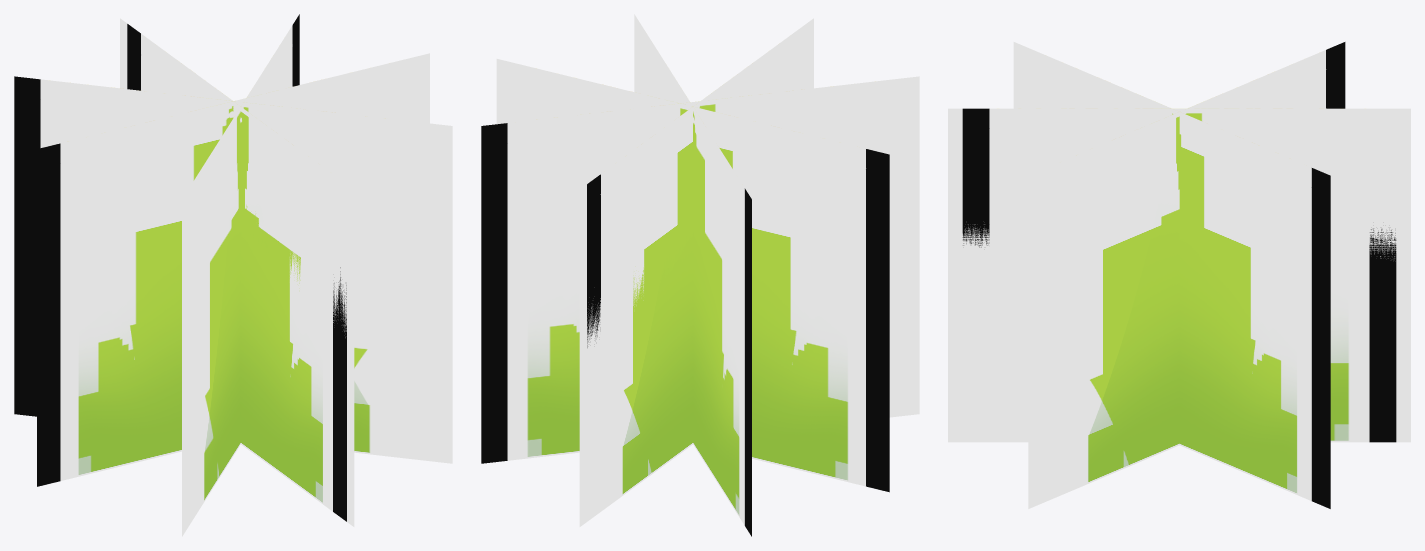
3 views of the same model, side by side, from view 1: azimuth 30°, elevation 25°; view 2: azimuth 150°, elevation 25°; view 3: azimuth 270°, elevation 25° (orthographic).
Parts seen in each view (by area): view 1: Grass_Lod_1, Grass_Lod_2; view 2: Grass_Lod_1, Grass_Lod_2; view 3: Grass_Lod_1, Grass_Lod_2.
Boxes of the visible parts, bbox=[...] form: Grass_Lod_1: bbox=[14, 14, 452, 536]; Grass_Lod_2: bbox=[120, 18, 346, 521]; Grass_Lod_1: bbox=[481, 14, 919, 536]; Grass_Lod_2: bbox=[579, 184, 692, 526]; Grass_Lod_1: bbox=[948, 42, 1396, 508]; Grass_Lod_2: bbox=[962, 108, 1410, 442].
Bounding box in the file's own units: 196 × 161 × 202.
